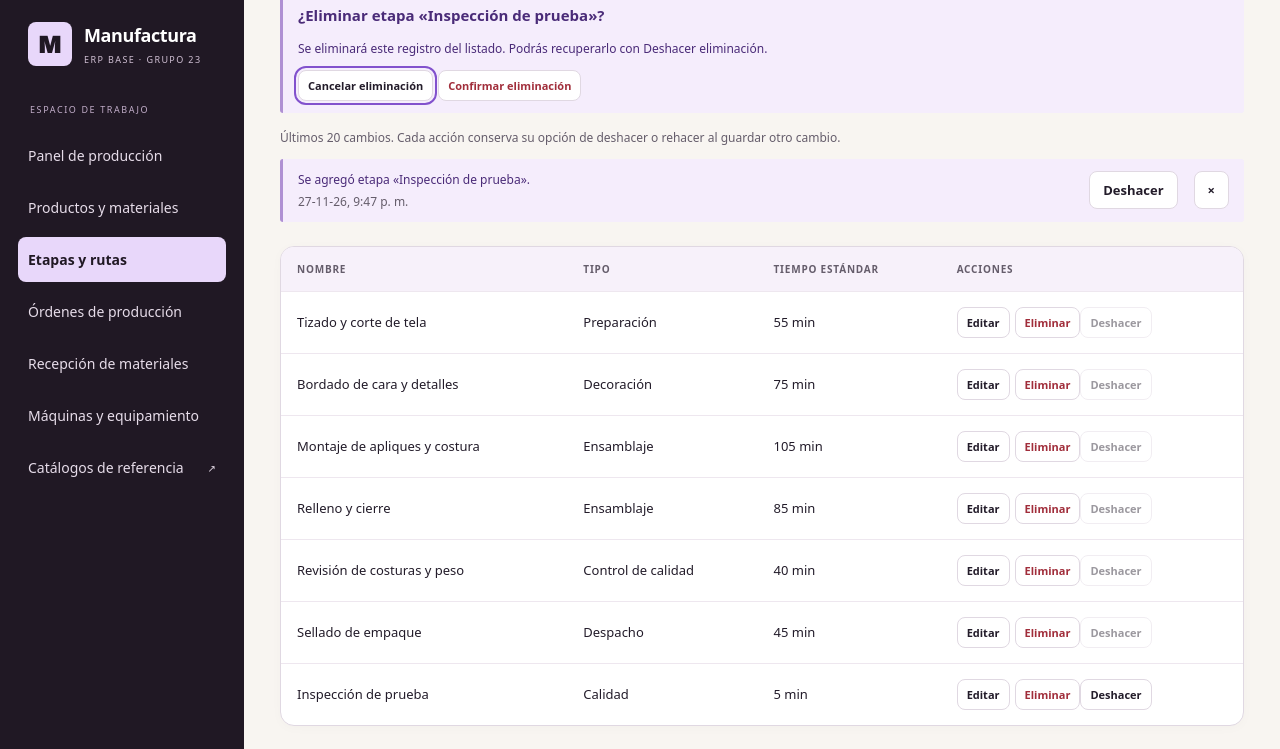
Test: retira una etapa eliminada de la tabla y conserva su recuperación al volver a la página
Earlier steps of the test are not shown.
Later steps or results of the test are not shown.
(page scrolled)
Click the button "Confirmar eliminación" at (510, 85), box [438,70,581,101]
(page scrolled)
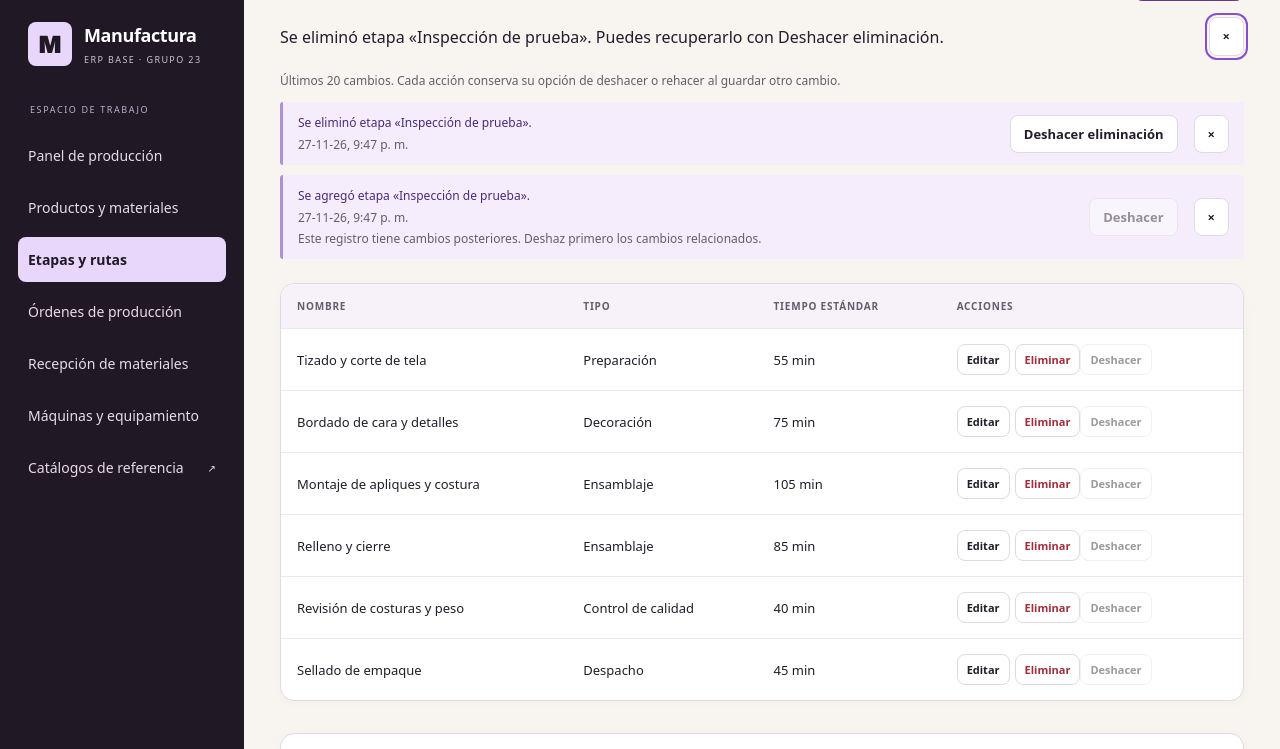
Now the element with class "notice" shows "Inspección de prueba", box [298,114,532,131]
Now the button "Deshacer eliminación" is shown
Now the button "Deshacer eliminación" is enabled
Click the button "Deshacer eliminación" at (1094, 134), box [1010,115,1178,153]
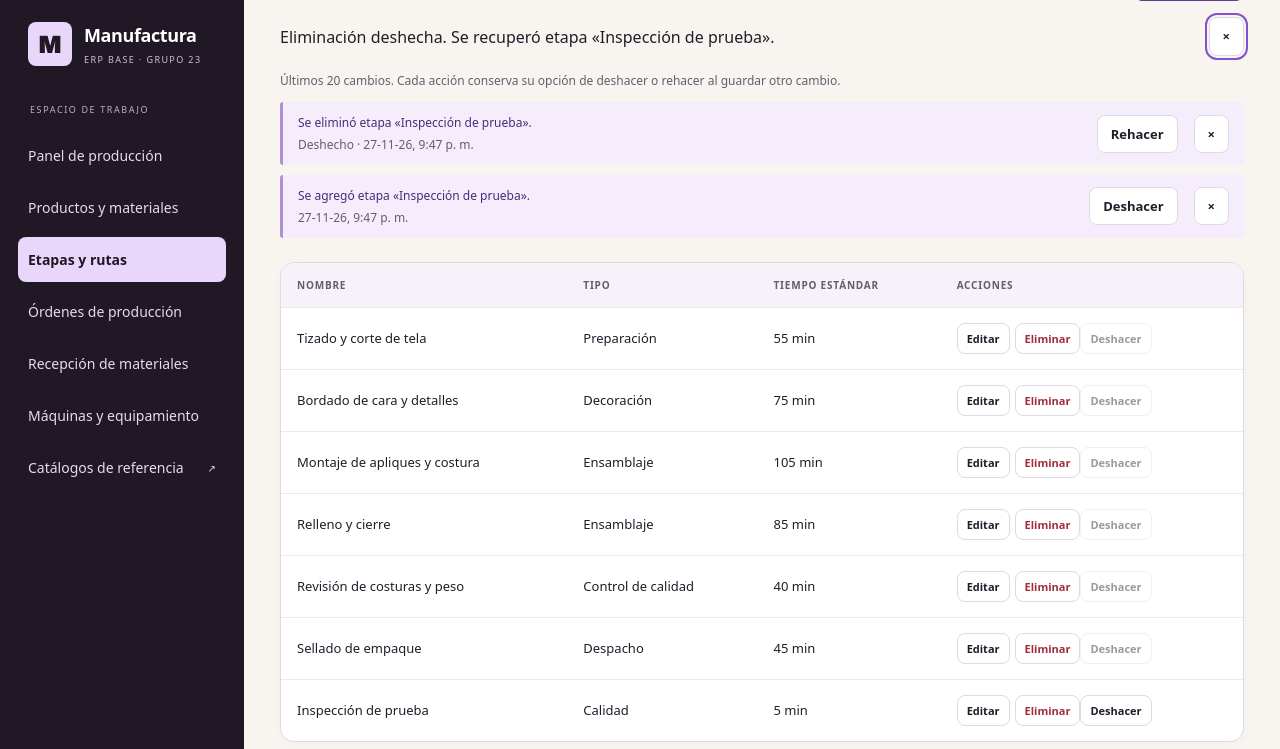
Now the message "Eliminación deshecha. Se recuperó etapa «Inspección de prueba». ×" is shown, box [280,17,1244,56]
Now the 7th button "Eliminar" is shown
Now the 7th button "Eliminar" is enabled
Click the 7th button "Eliminar" at (1047, 710), box [1014,695,1080,726]
(page scrolled)
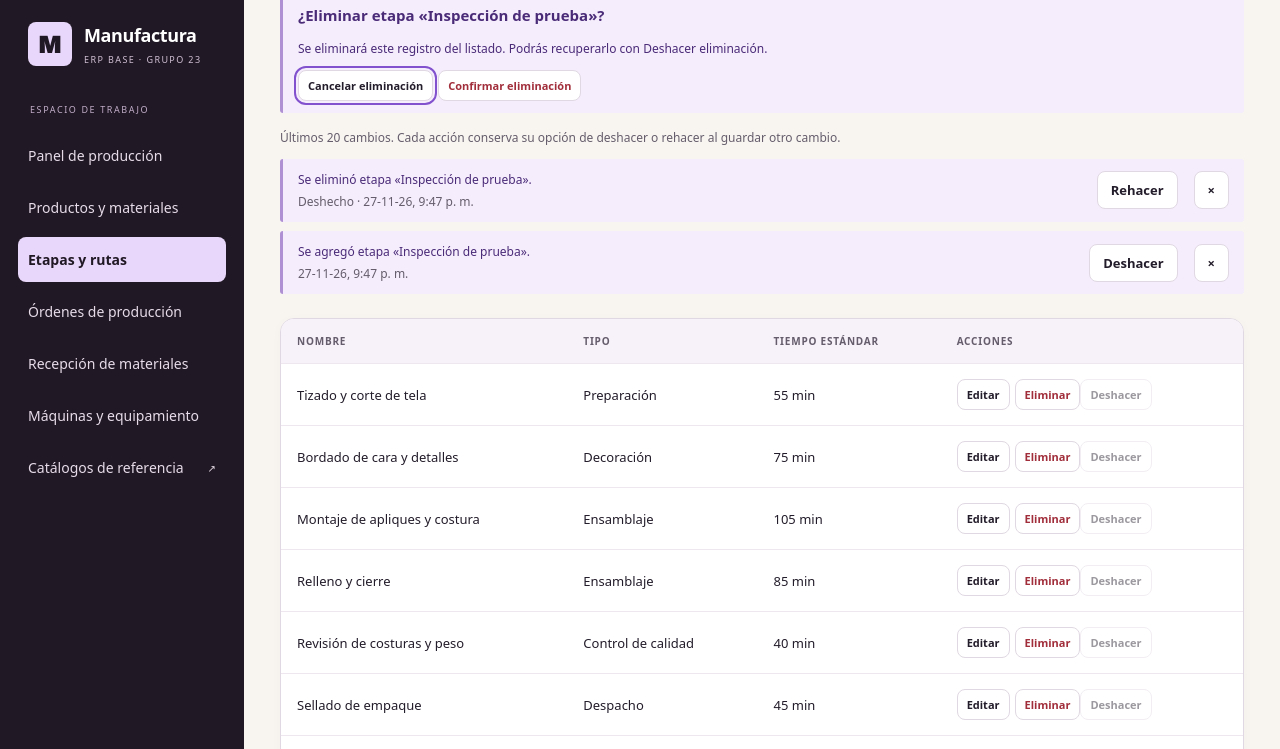
Now the button "Confirmar eliminación" is shown
Now the button "Confirmar eliminación" is enabled
Click the button "Confirmar eliminación" at (510, 85), box [438,70,581,101]
(page scrolled)
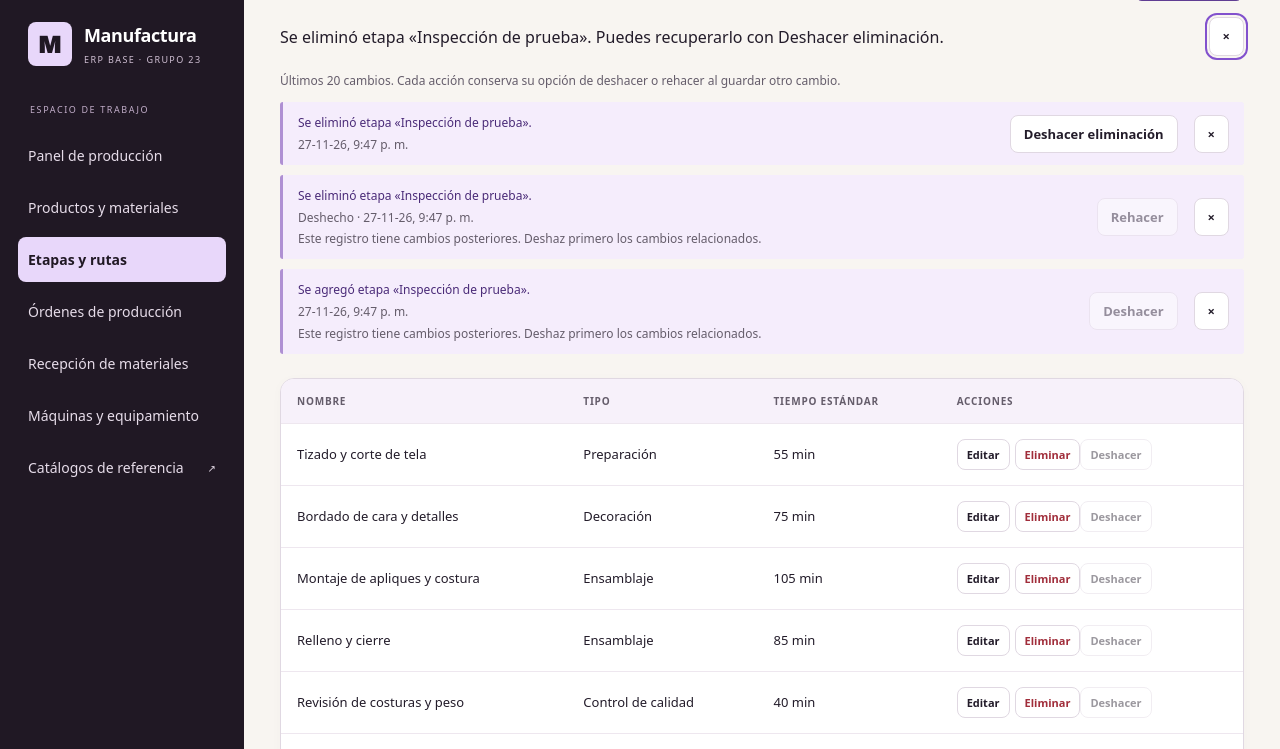
Click the button "Productos y materiales" at (122, 208), box [18,185,226,230]
(page scrolled)
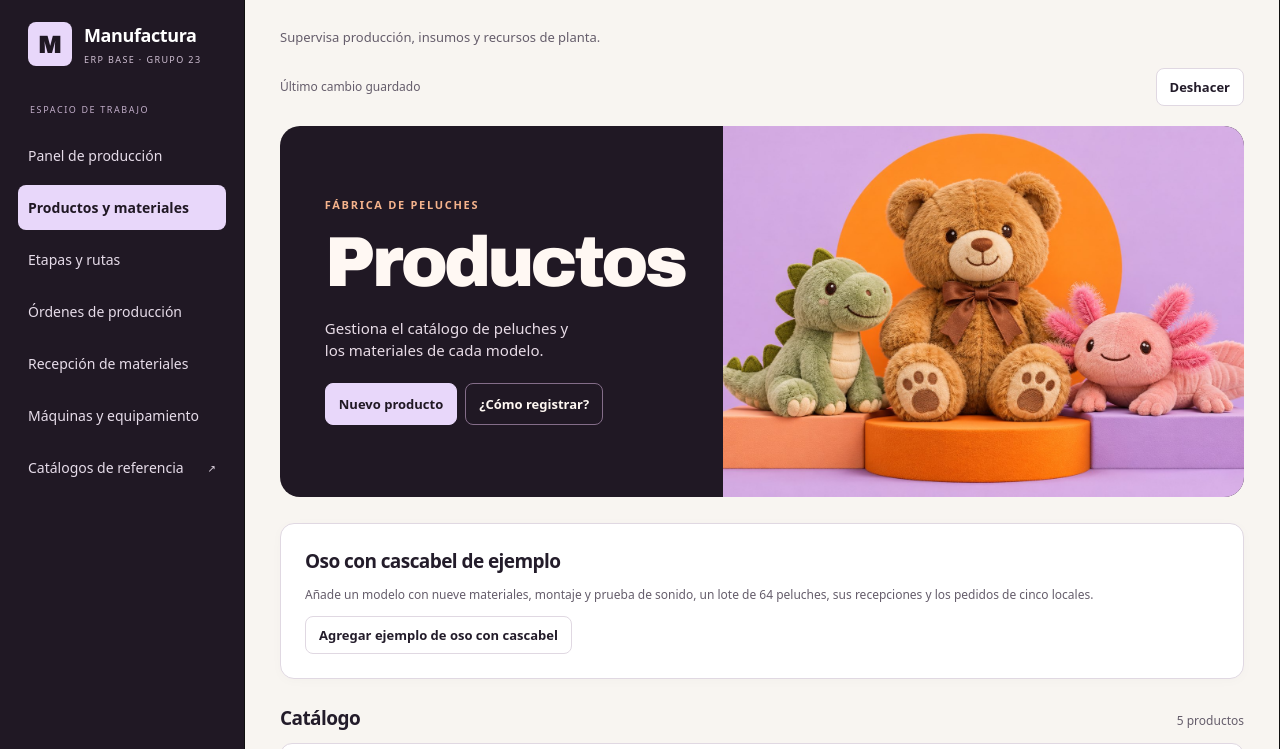
Click the button "Etapas y rutas" at (122, 260), box [18,237,226,282]
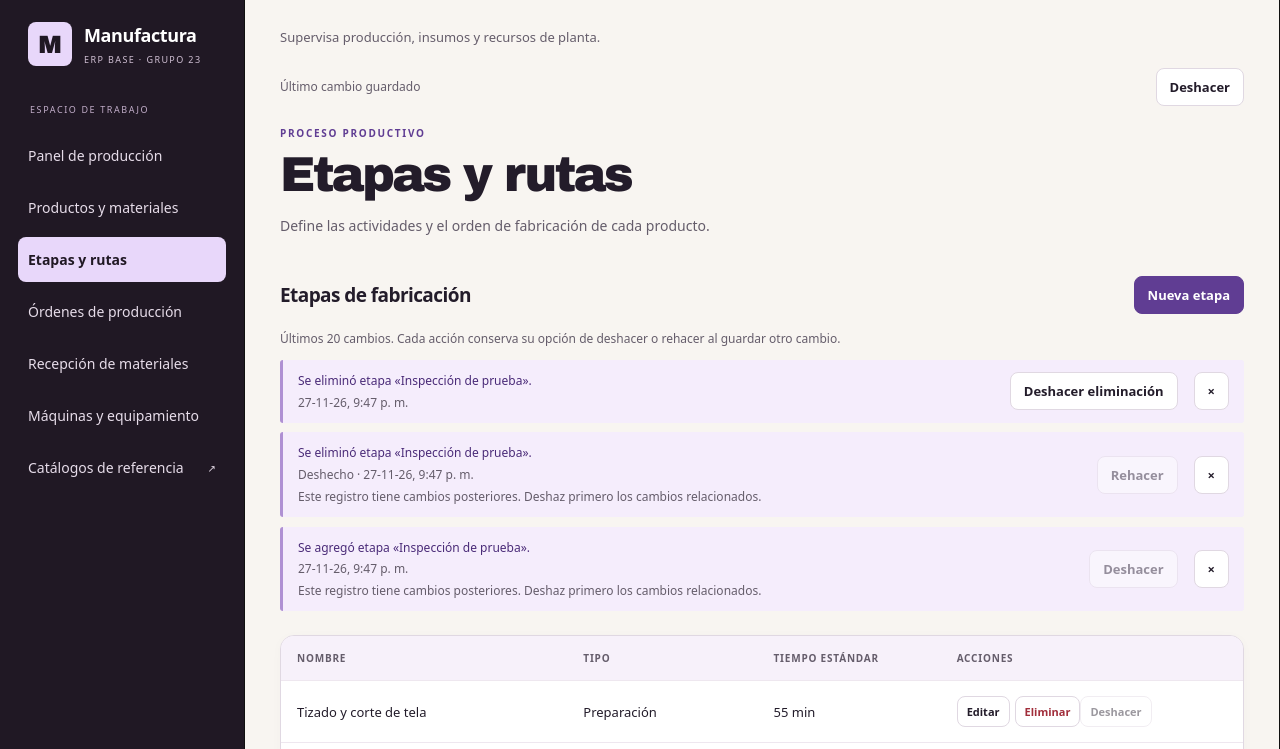
Expected: the text "Inspección de prueba" is not shown
Now the element with class "recovery-notice" shows "Inspección de prueba", box [298,372,532,389]
Now the button "Deshacer eliminación" is enabled, box [1010,372,1178,410]
